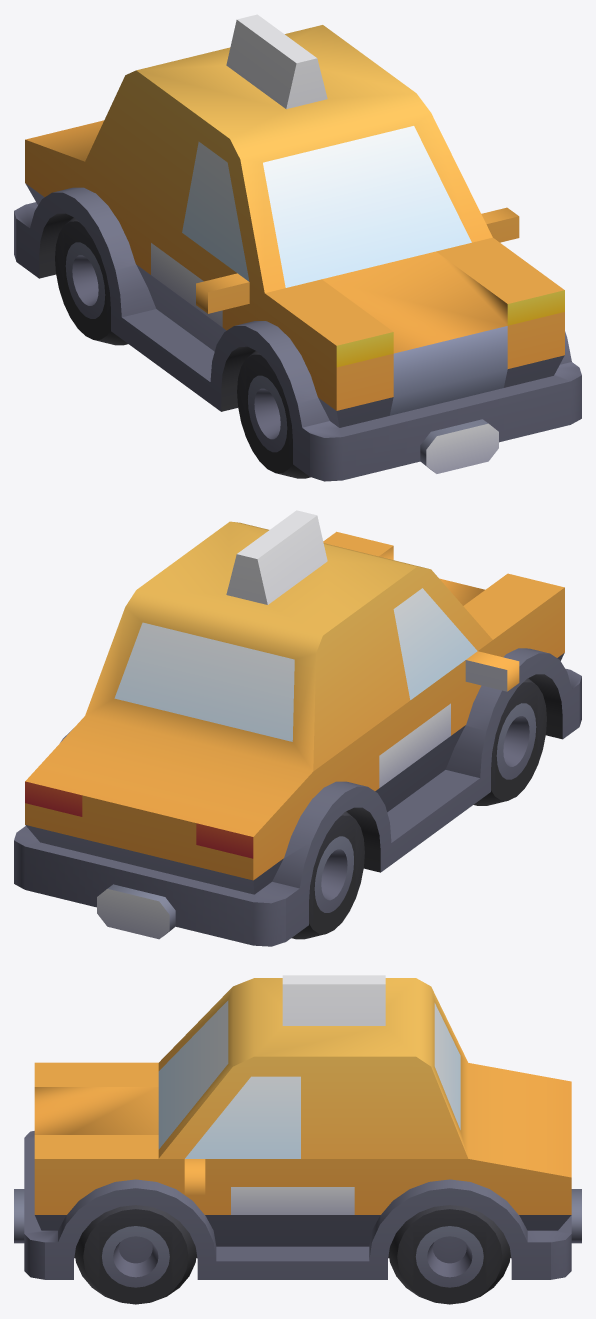
Rendered from car_taxi.glb.
3 views of the same model, one above another, from view 1: azimuth 30°, elevation 25°; view 2: azimuth 150°, elevation 25°; view 3: azimuth 270°, elevation 25° (orthographic). The views are drawn at different scales.
Parts seen in each view (by area): view 1: body; view 2: body; view 3: body.
Boxes of the visible parts, x1=… form: body: x1=14, y1=14, x2=581, y2=481; body: x1=14, y1=510, x2=581, y2=946; body: x1=14, y1=975, x2=581, y2=1304.
Bounding box in the file's own units: 1.5 × 1.5 × 2.75.
Materials: 1 (1 with a texture image).
